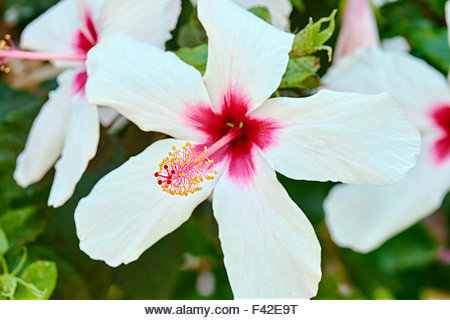Hibiscus: (75, 1, 400, 311), (3, 4, 154, 203)
